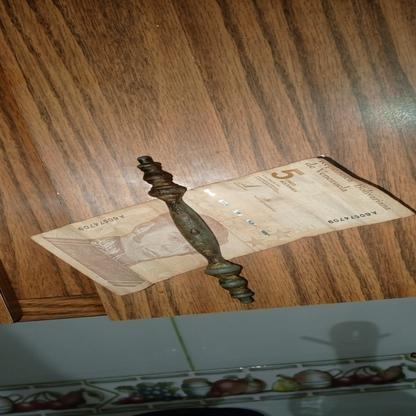five-front-vef: (30, 157, 416, 295)
